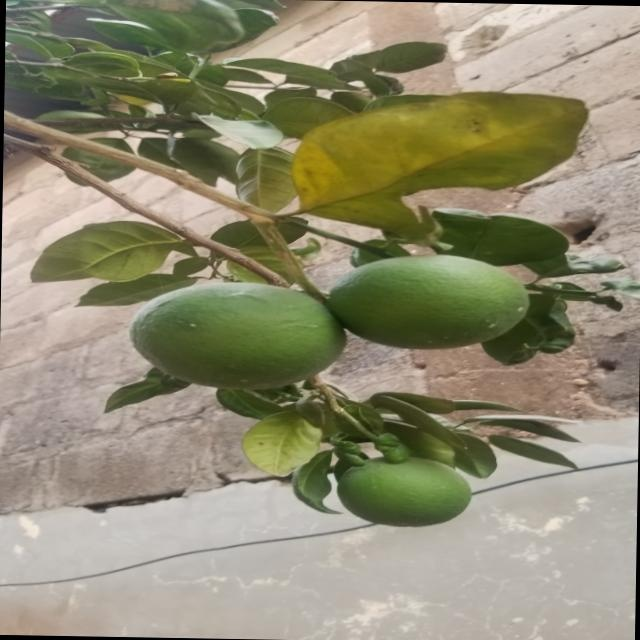agrume: (119, 279, 330, 397), (333, 251, 527, 356), (309, 446, 487, 540)
